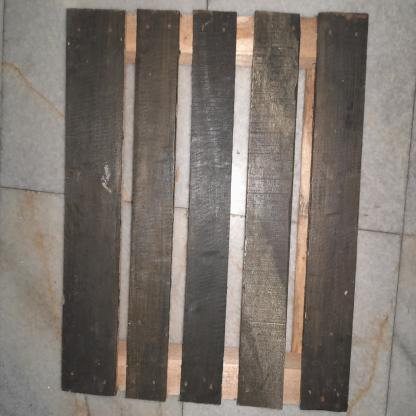Wooden-Pallet: (56, 10, 368, 415)
